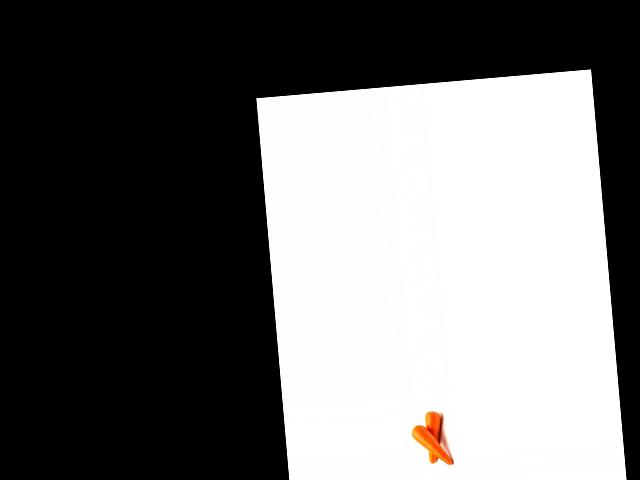carrot: (422, 406, 447, 470)
